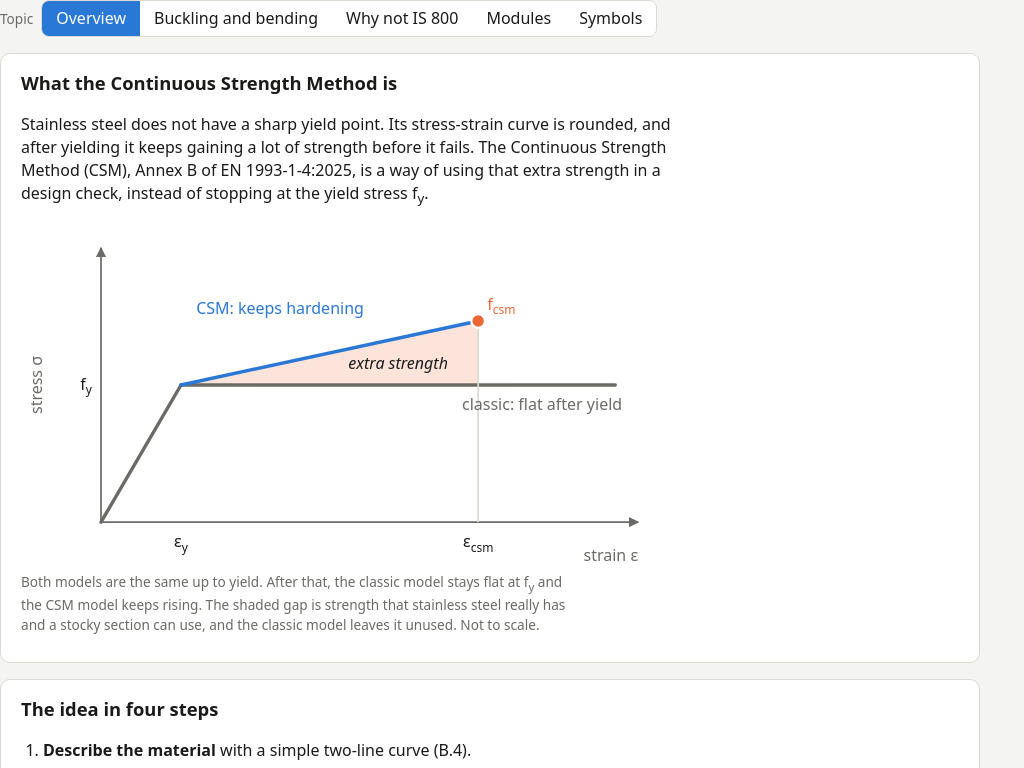
Test case: Help › has a bending module with its sketch in the Modules topic
Step 1. Click the radio button labelled "Modules" → coordinates (519, 19), box [472,1,565,36]
(page scrolled)
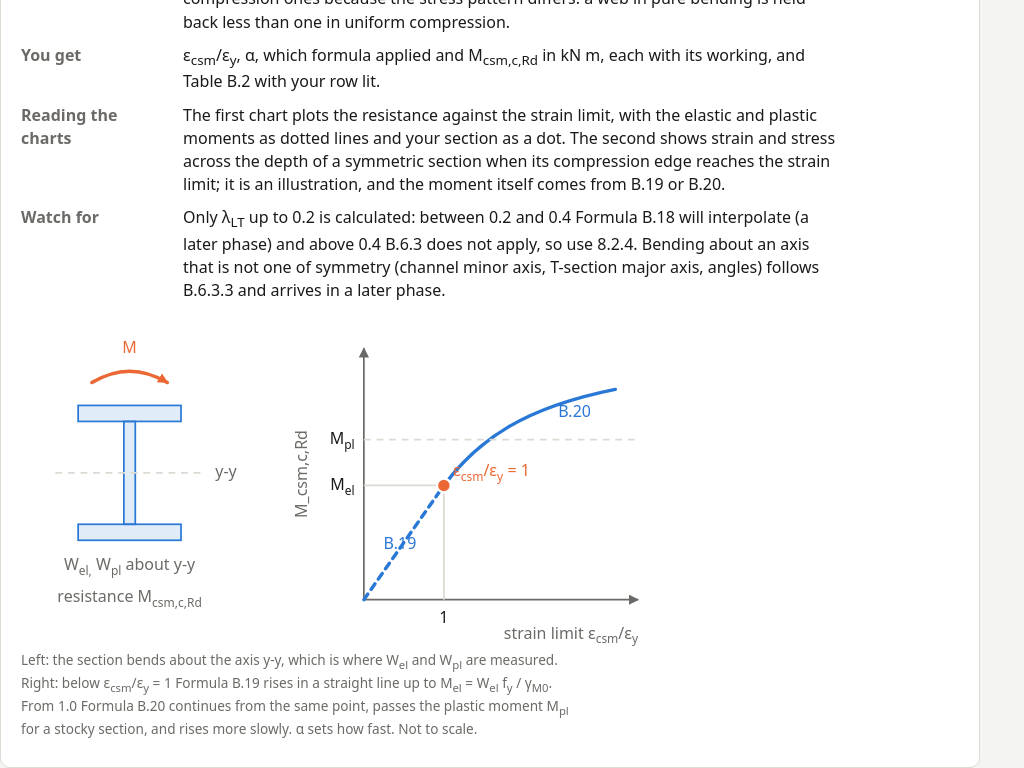
Expected: the picture named "An I-section bent about its major axis" is shown, [21,314,661,646]
